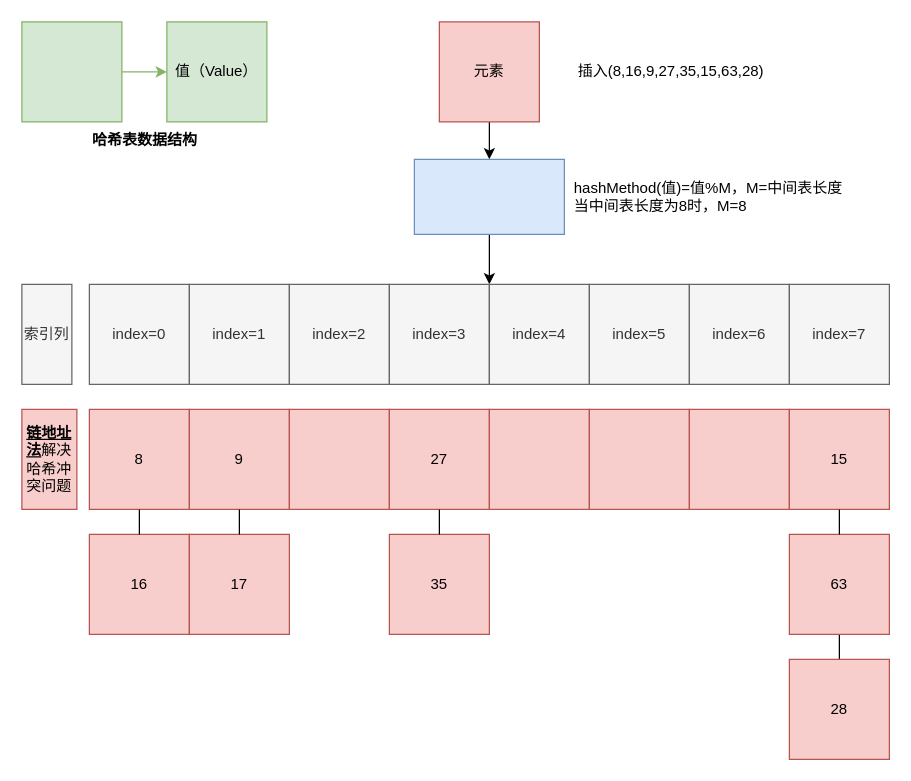
Image size: 911x781. Some labels were removed from this diagram. The shapes that lost their labels are listed below. From the top down, each one's centre as x and y in pixels, then its label:
At point 71,71: "键（Key）".
At point 488,196: "哈希函数".
